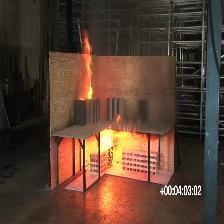fire: (71, 29, 115, 112), (94, 120, 136, 170)
